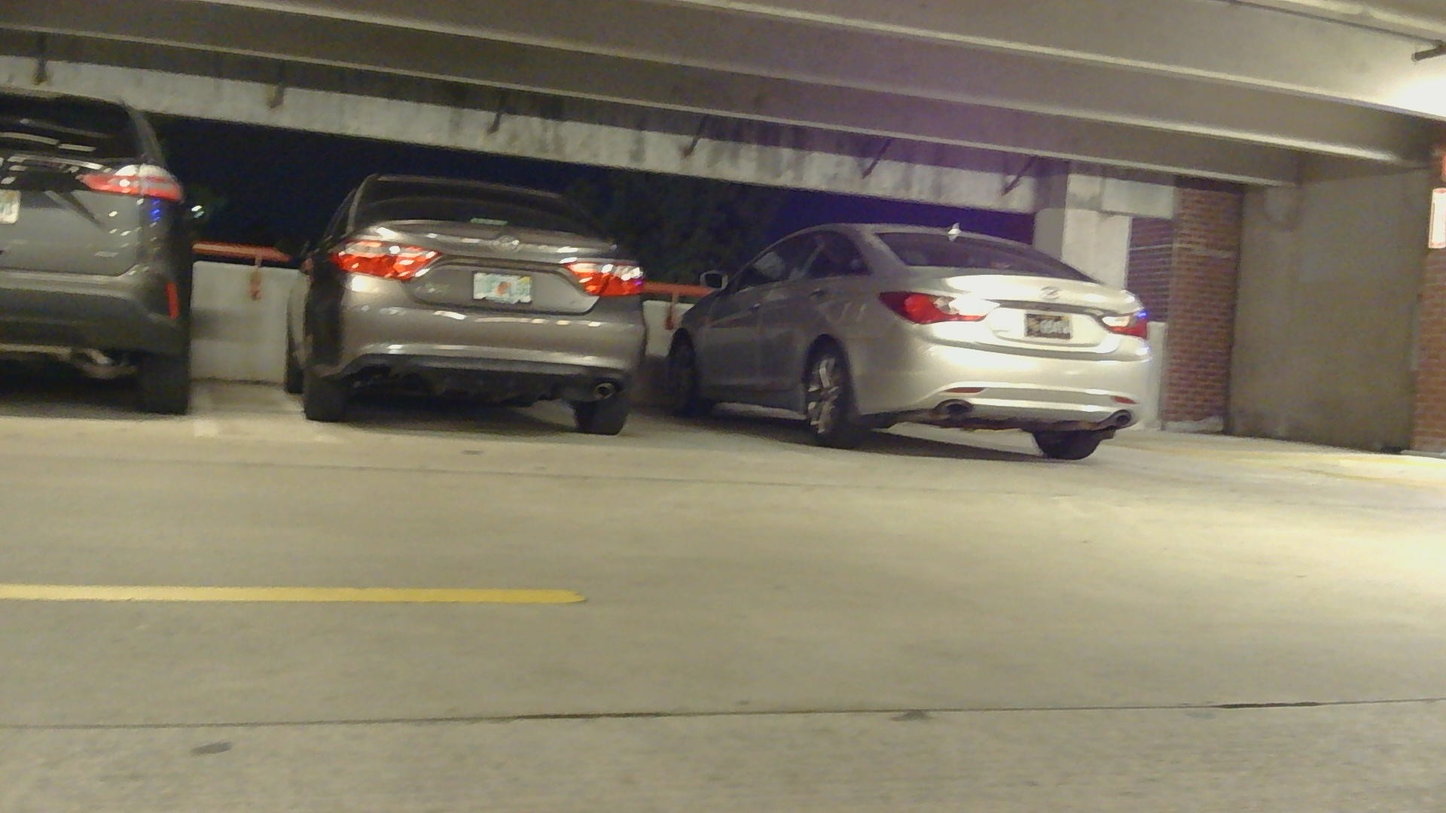occupied_spot: (656, 213, 1154, 464), (270, 171, 650, 442), (1, 85, 201, 407)
